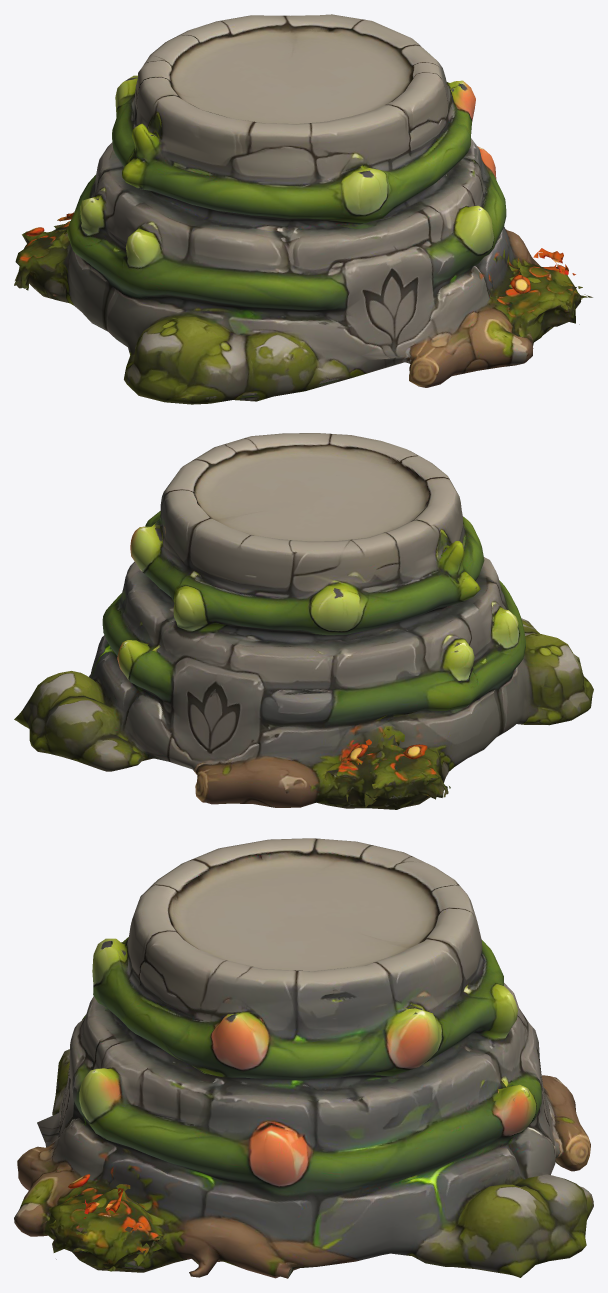
Rendered from nat-tw1-lv3-4200.fbx.
3 renders of one model, top to bottom at view 1: azimuth 30°, elevation 25°; view 2: azimuth 150°, elevation 25°; view 3: azimuth 270°, elevation 25°, orthographic. The views are drawn at different scales.
Parts seen in each view (by area): view 1: tripo_node_ad817b05; view 2: tripo_node_ad817b05; view 3: tripo_node_ad817b05.
Boxes of the visible parts, x1=… form: tripo_node_ad817b05: x1=14, y1=14, x2=592, y2=404; tripo_node_ad817b05: x1=14, y1=433, x2=593, y2=809; tripo_node_ad817b05: x1=14, y1=838, x2=593, y2=1278.
Size of the model in its own units: 0.9475 by 0.489 by 0.9566.
